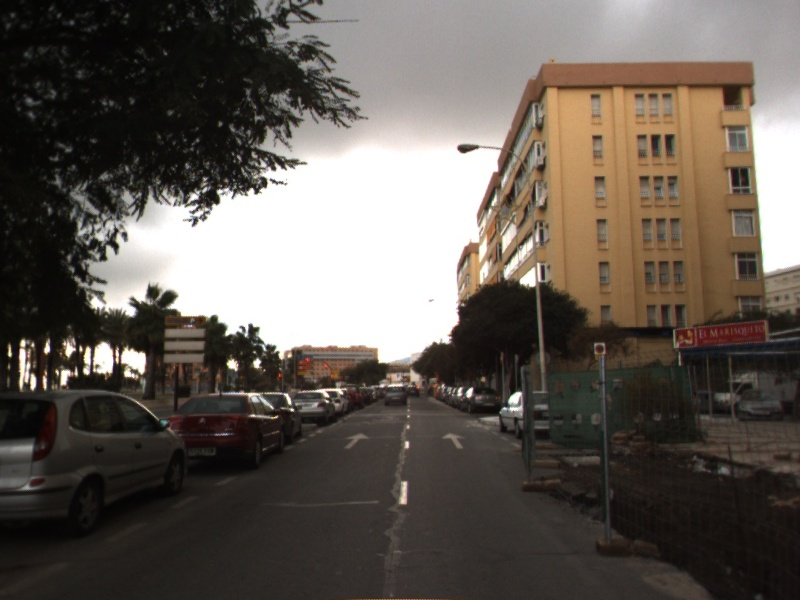STRAIGHT: (343, 431, 372, 450), (441, 431, 467, 450)
